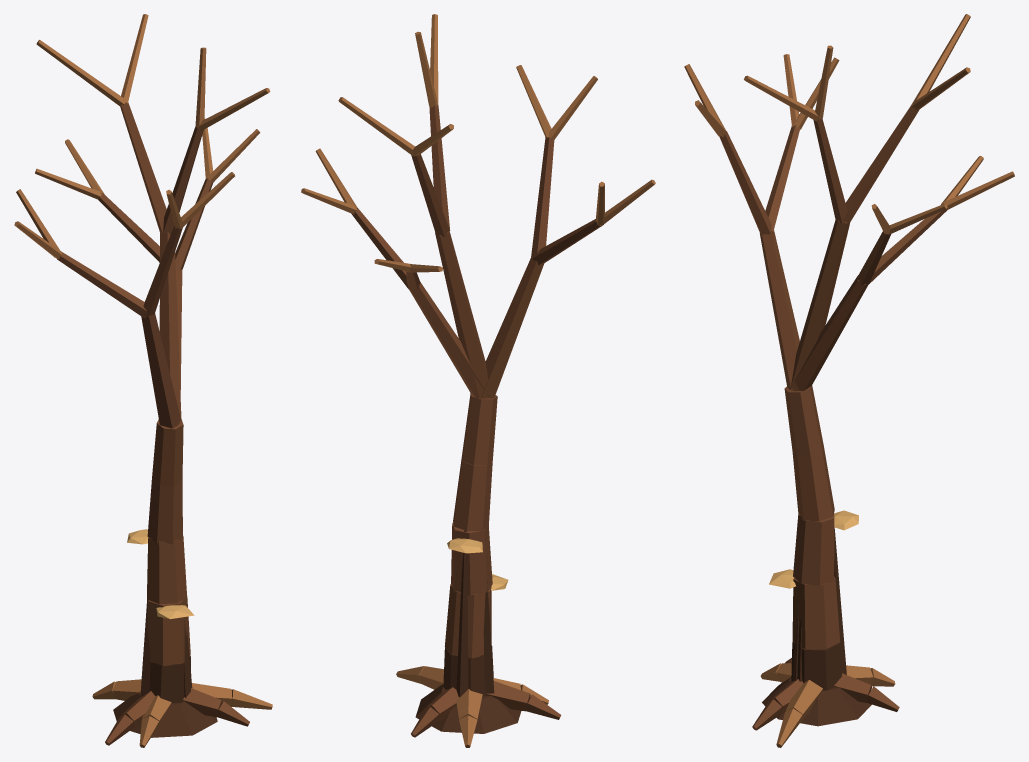
File: tree_bare_a.glb
3 views of the same model, side by side, from view 1: azimuth 30°, elevation 25°; view 2: azimuth 150°, elevation 25°; view 3: azimuth 270°, elevation 25° (orthographic). The views are drawn at different scales.
Parts seen in each view (by area): view 1: TreeBareA; view 2: TreeBareA; view 3: TreeBareA.
Part boxes in pixels (bbox=[...]): TreeBareA: bbox=[14, 14, 272, 747]; TreeBareA: bbox=[301, 14, 655, 747]; TreeBareA: bbox=[684, 14, 1014, 747].
Size of the model in its own units: 6.08 by 13.22 by 5.83.
